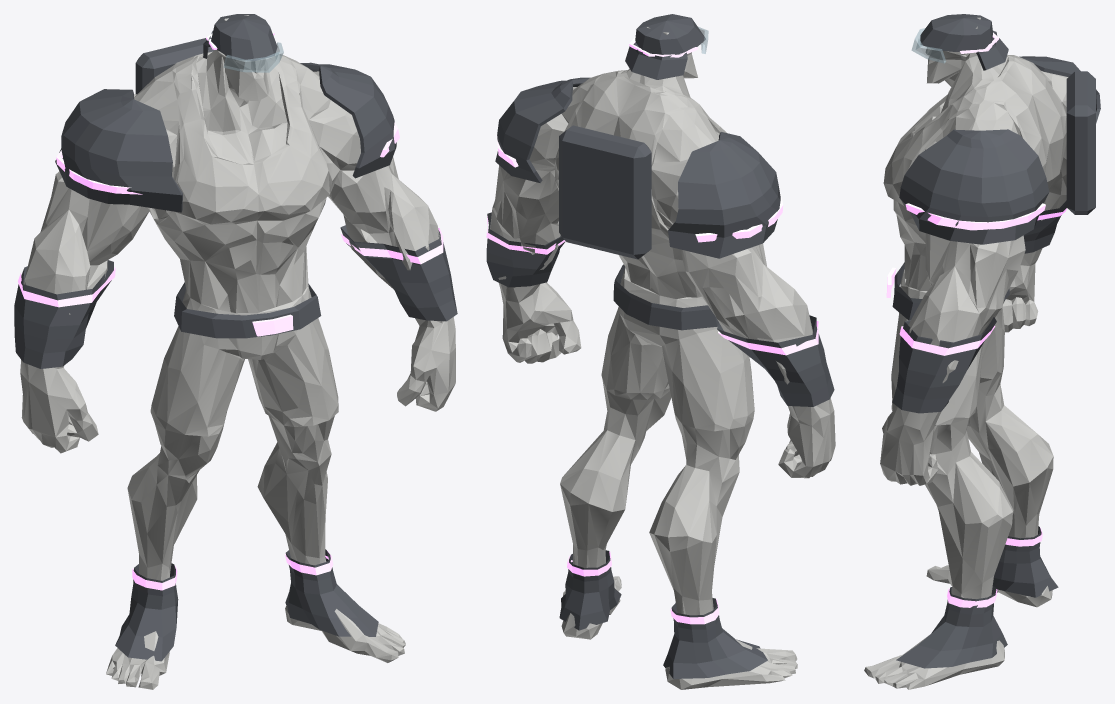
3 views of the same model, side by side, from view 1: azimuth 30°, elevation 25°; view 2: azimuth 150°, elevation 25°; view 3: azimuth 270°, elevation 25° (orthographic). The views are drawn at different scales.
Parts seen in each view (by area): view 1: bruiser, ShoulderPad_R, Bracer_R, ShoulderPad_L, Bracer_L, Boot_L, Boot_R, Belt, Helmet, Backpack, Helmet_Visor, Bracer_Light_R (+1 smaller); view 2: bruiser, Backpack, ShoulderPad_R, Boot_R, ShoulderPad_L, Bracer_R, Boot_L, Bracer_L, Belt, Helmet, Helmet_CheekGuard, Bracer_Light_R (+1 smaller); view 3: bruiser, ShoulderPad_L, Bracer_L, Boot_L, Backpack, Boot_R, Helmet, ShoulderPad_Light_L, Bracer_R, ShoulderPad_R, Belt, Bracer_Light_L (+3 smaller).
Part boxes in pixels (x1,y1,x2,y2): bruiser: (20, 15, 455, 689); ShoulderPad_R: (55, 89, 182, 212); Bracer_R: (14, 260, 113, 368); ShoulderPad_L: (300, 62, 396, 178); Bracer_L: (340, 225, 457, 321); Boot_L: (285, 549, 378, 636); Boot_R: (115, 563, 178, 661); Belt: (174, 282, 321, 338); Helmet: (211, 14, 277, 60); Backpack: (135, 38, 214, 94); Helmet_Visor: (223, 42, 283, 72); Bracer_Light_R: (18, 267, 115, 307); bruiser: (490, 27, 835, 689); Backpack: (559, 125, 651, 259); ShoulderPad_R: (668, 132, 780, 258); Boot_R: (663, 598, 767, 678); ShoulderPad_L: (495, 77, 590, 182); Bracer_R: (717, 315, 834, 406); Boot_L: (559, 550, 621, 630); Bracer_L: (486, 212, 565, 287); Belt: (613, 264, 718, 330); Helmet: (635, 14, 705, 54); Helmet_CheekGuard: (625, 42, 687, 79); Bracer_Light_R: (718, 321, 818, 355); bruiser: (864, 17, 1068, 689); ShoulderPad_L: (899, 129, 1049, 244); Bracer_L: (892, 317, 996, 413); Boot_L: (896, 586, 1007, 668); Backpack: (1066, 71, 1095, 214); Boot_R: (992, 526, 1058, 597); Helmet: (920, 14, 992, 51); ShoulderPad_Light_L: (905, 203, 1045, 230); Bracer_R: (1023, 200, 1066, 253); ShoulderPad_R: (1019, 56, 1100, 123); Belt: (892, 262, 1009, 320); Bracer_Light_L: (899, 325, 995, 355).
Size of the model in its own units: 1.28 by 2.01 by 0.7065.
